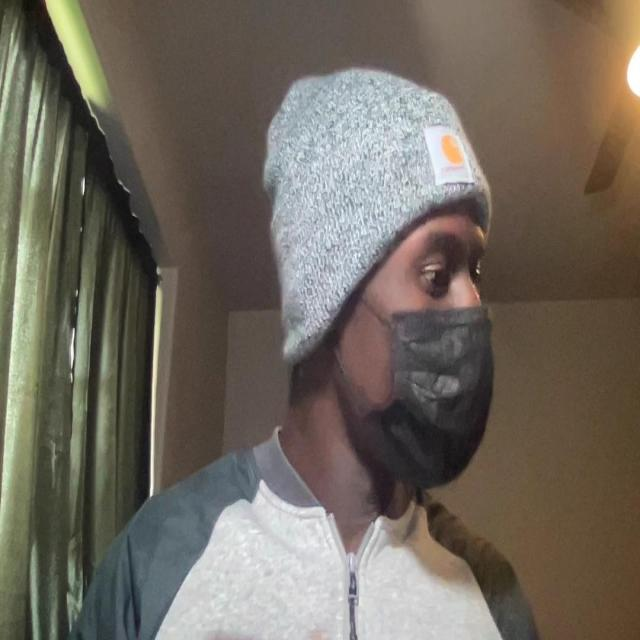face: (322, 123, 497, 486)
